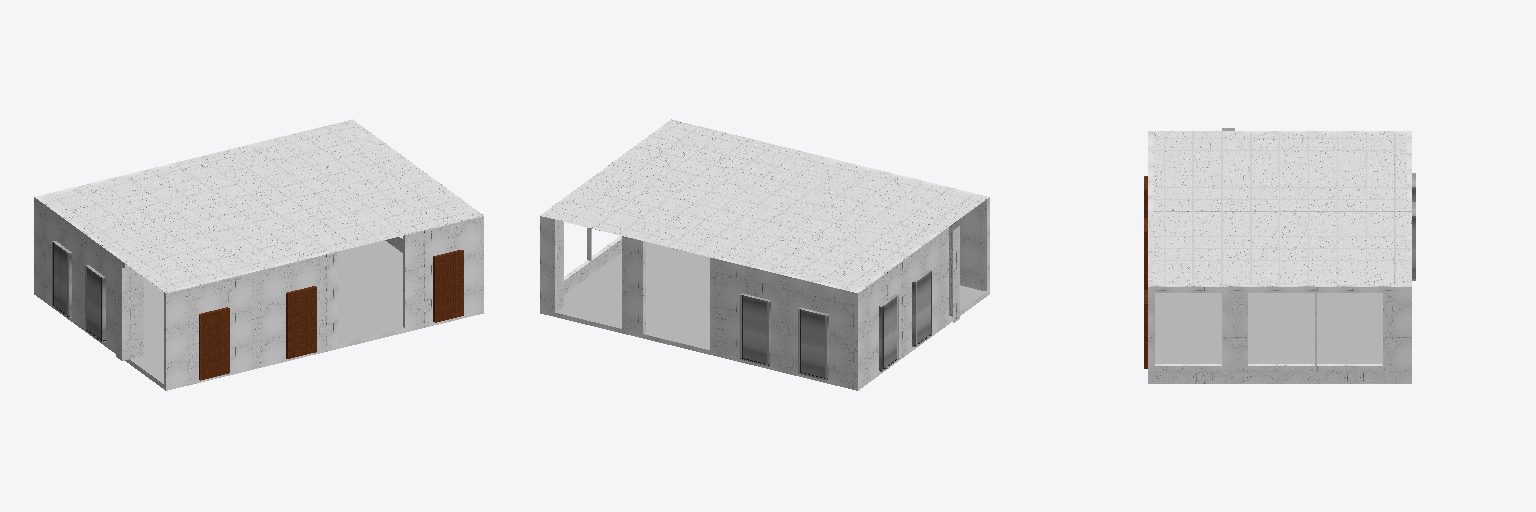
The picture shows the model from 3 angles: view 1: azimuth 30°, elevation 25°; view 2: azimuth 150°, elevation 25°; view 3: azimuth 270°, elevation 25°; orthographic projection.
Visible parts, largest first — view 1: Plane.584, Plane.585, door_elevator.192, door.045, column_6/8.027, door_elevator.191; view 2: Plane.584, Plane.585, door.031, door.045, column_6/8.027, column_1/4.015; view 3: Plane.584, Plane.585.
Part boxes in pixels (bbox=[...]): Plane.584: bbox=[42, 122, 476, 291]; Plane.585: bbox=[34, 119, 483, 390]; door_elevator.192: bbox=[199, 286, 316, 380]; door.045: bbox=[52, 241, 105, 342]; column_6/8.027: bbox=[116, 264, 143, 360]; door_elevator.191: bbox=[433, 250, 463, 322]; Plane.584: bbox=[547, 122, 985, 290]; Plane.585: bbox=[540, 119, 989, 390]; door.031: bbox=[740, 293, 828, 380]; door.045: bbox=[879, 270, 931, 371]; column_6/8.027: bbox=[949, 224, 959, 322]; column_1/4.015: bbox=[557, 220, 563, 310]; Plane.584: bbox=[1148, 131, 1411, 284]; Plane.585: bbox=[1148, 131, 1411, 383].
Bounding box in the file's own units: 3.89 × 1.11 × 2.81.
6 materials, 4 textured.